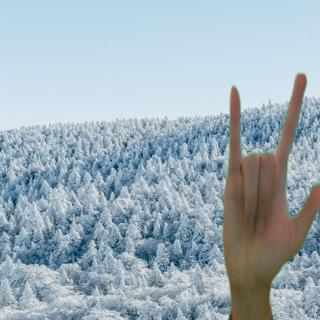ILY: (219, 71, 320, 297)
